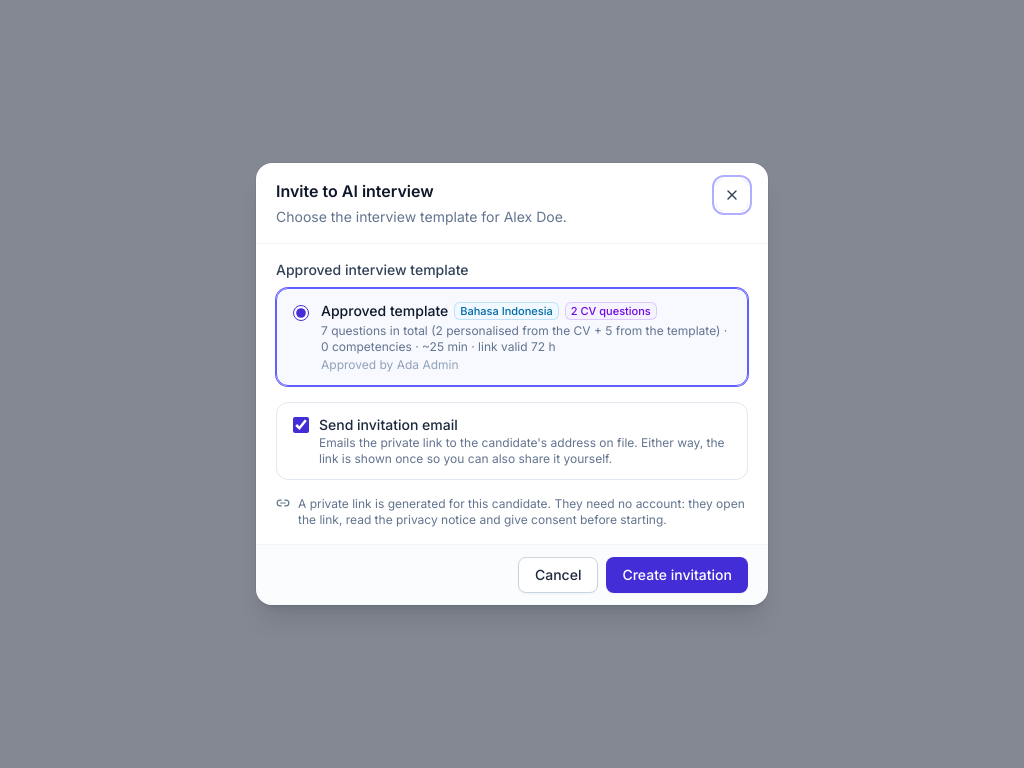
Test case: InviteCandidateDialog › shows a warning with the link when SMTP isn't configured
Step 1. Click the button "Create invitation" → (677,575), box [606,557,748,593]
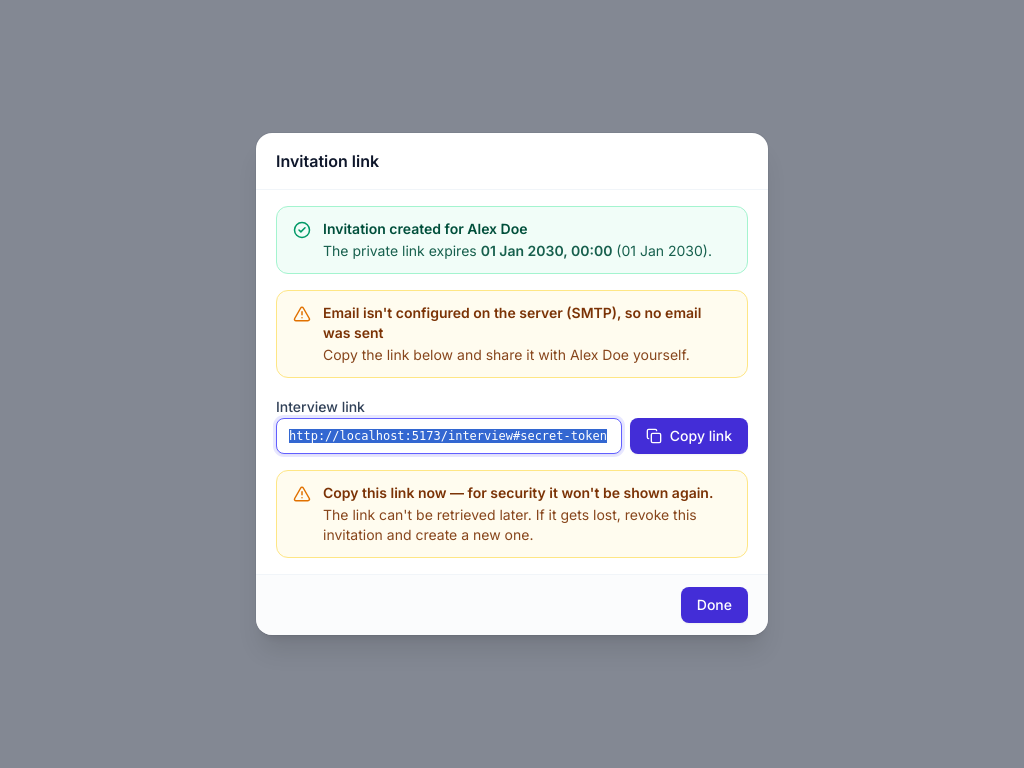
Check: the text "Email isn't configured on the server" is shown, box [323,304,701,341]
Check: the field labelled "Interview link" holds "http://localhost:5173/interview#secret-token", box [276,418,622,454]
